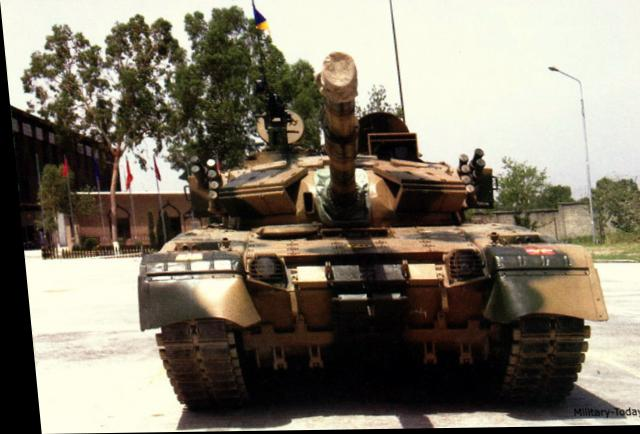tank: (97, 116, 599, 410)
